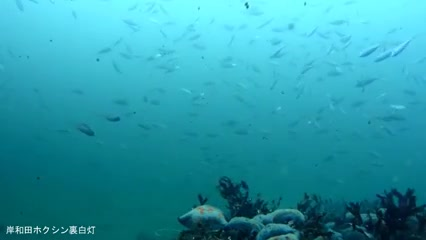smallfish: (387, 29, 421, 59), (356, 41, 380, 59)
